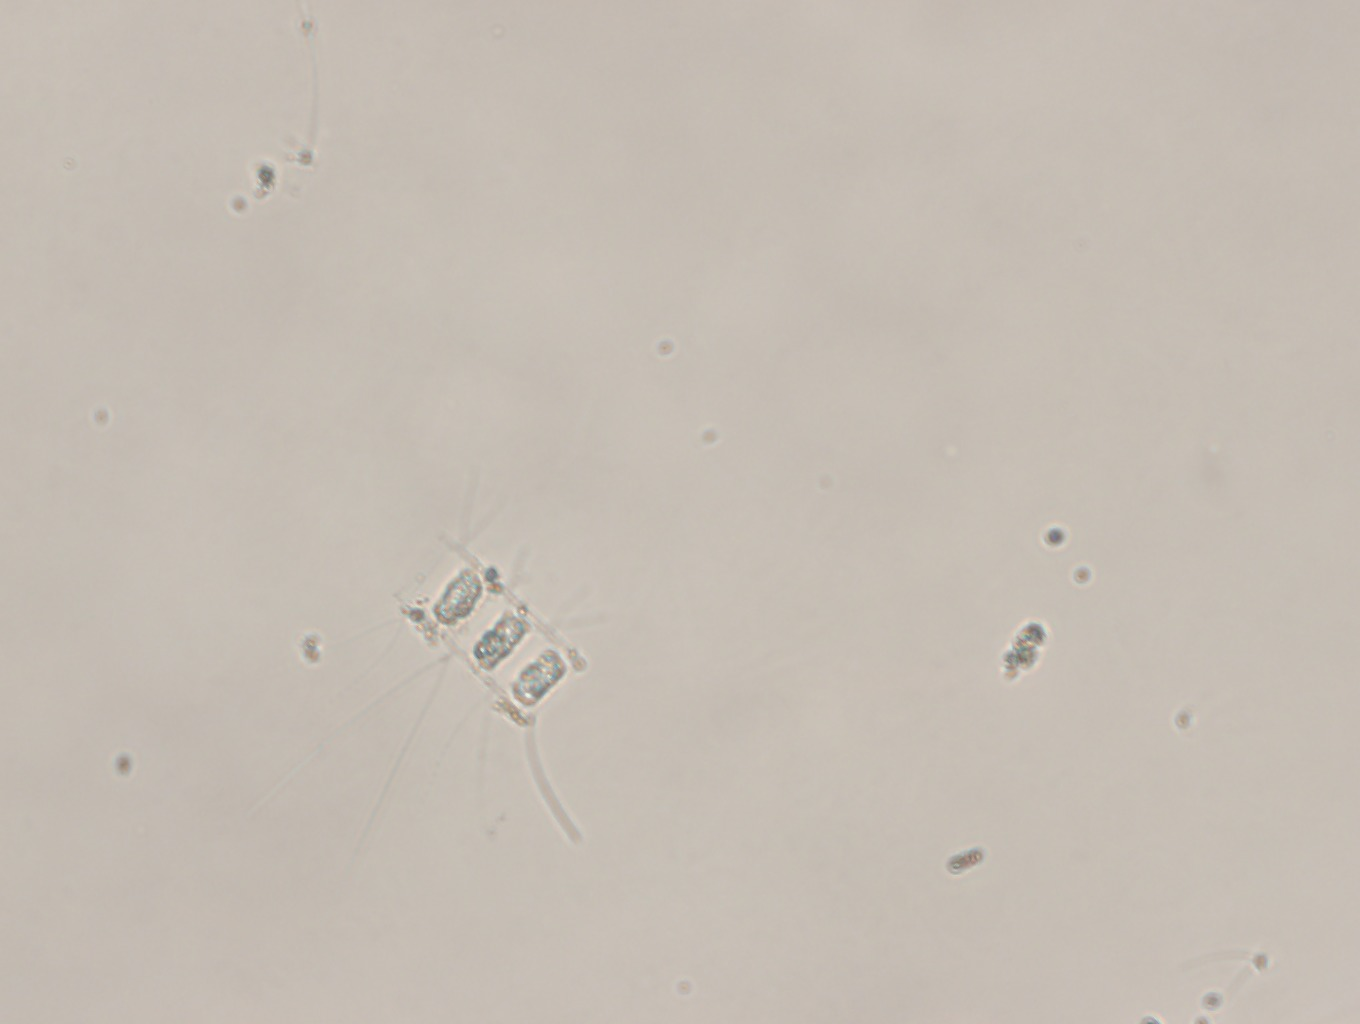chaetoceros: (330, 484, 662, 862)
